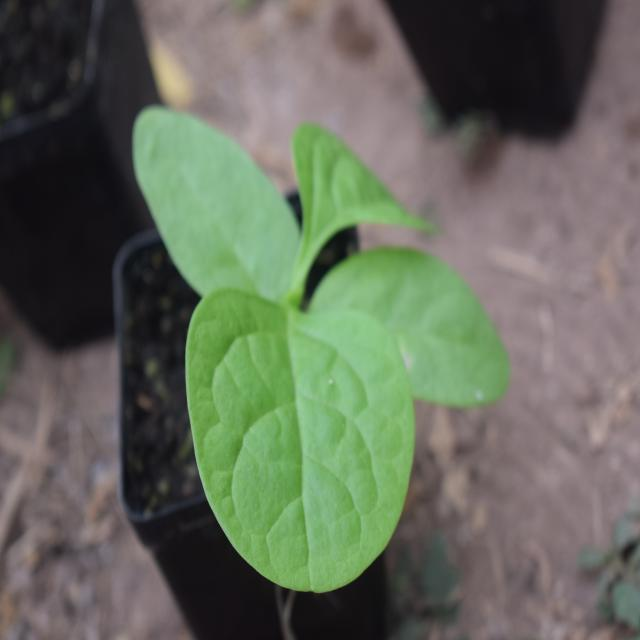Ceylon spinach: (135, 102, 502, 541)
